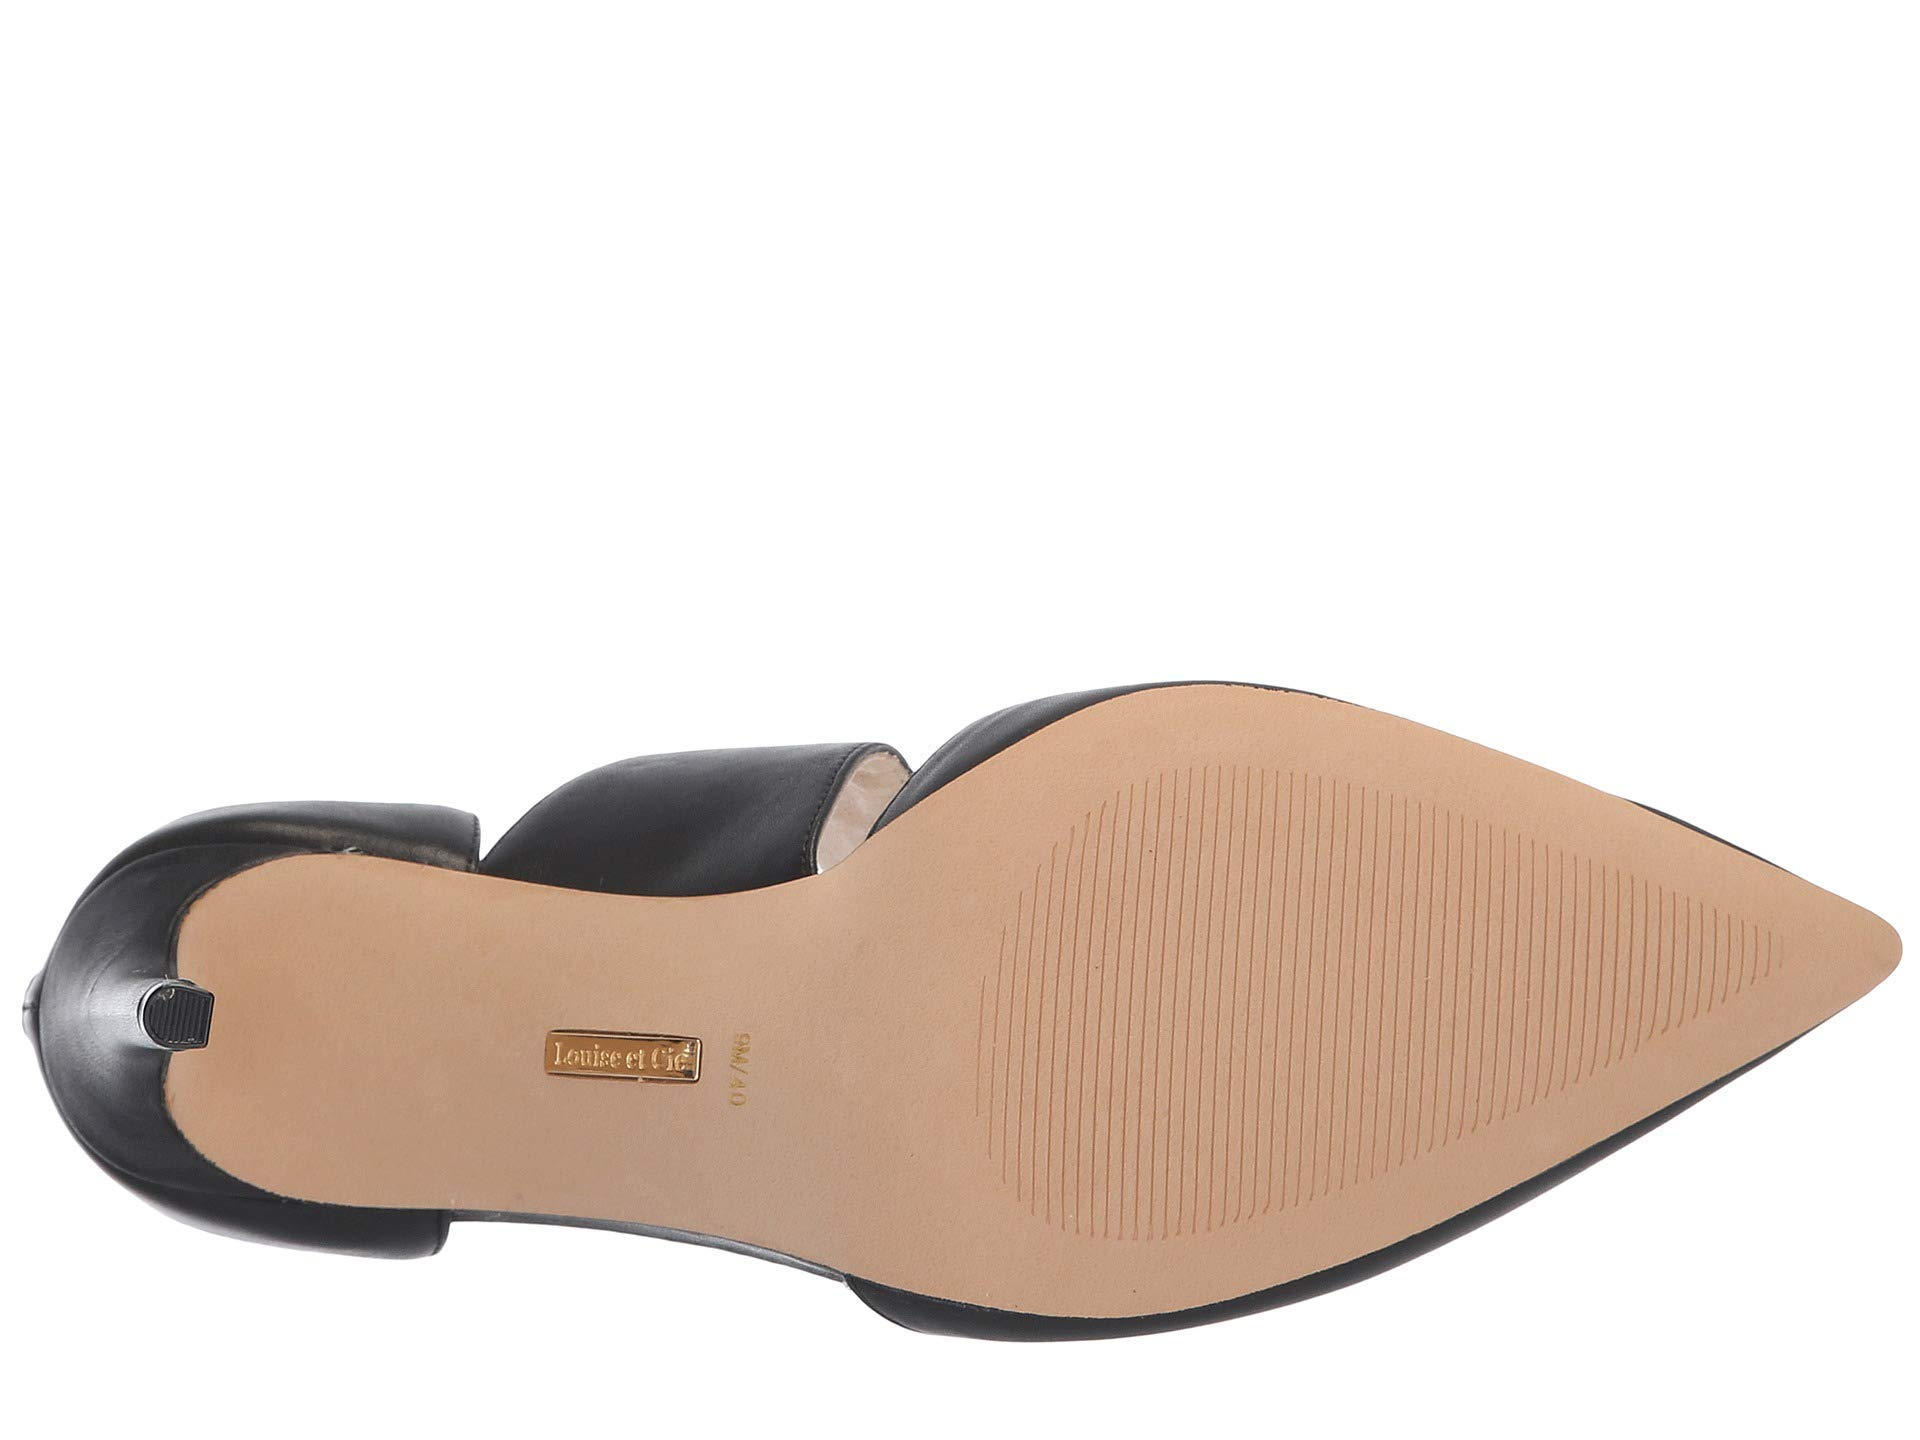line: (1116, 833, 1411, 1119), (1445, 889, 1655, 1094)
